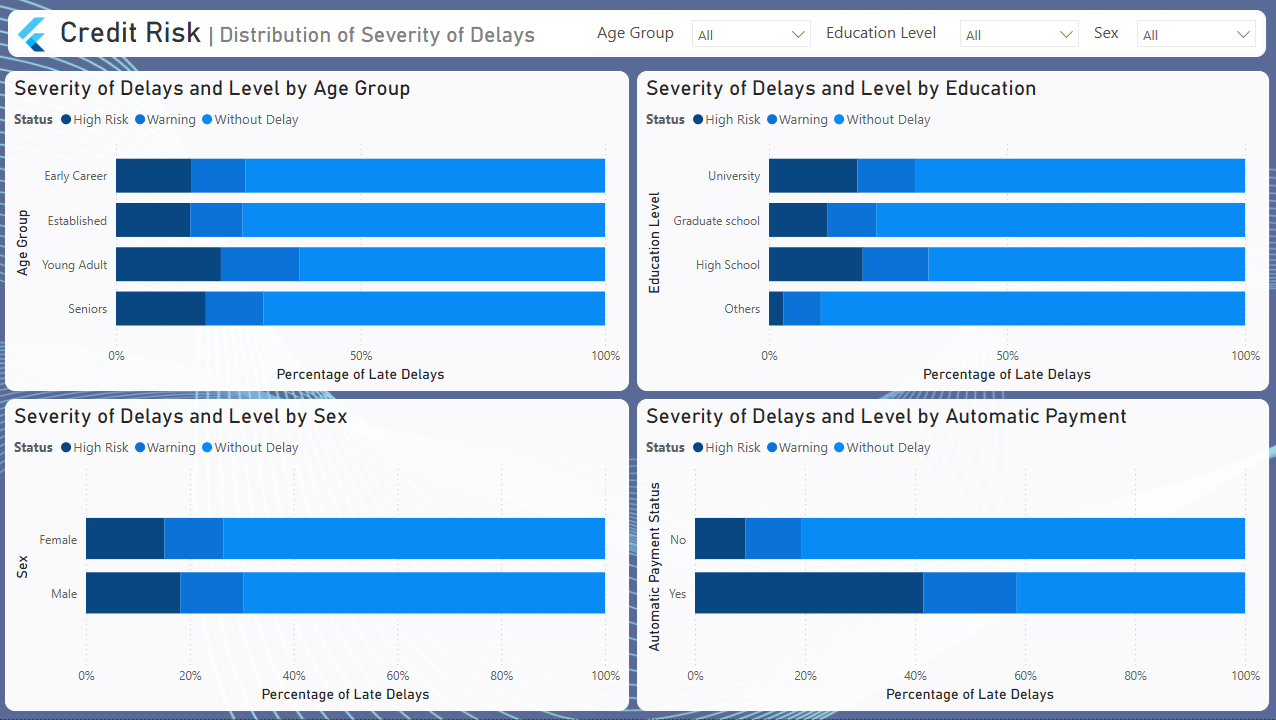

The dashboard page shown, as its layout file describes it:
{"tool":"powerbi","page":{"name":"Page 3","canvas":[1280,720],"ordinal":2},"visuals":[{"type":"hundredPercentStackedBarChart","title":"Severity of Delays and Level by Age Group","fields":{"Category":["Banking.AGE_GROUP"],"Y":["CountNonNull(Banking.MAX_LATE_DELAY)"],"Series":["Banking.MAX_LATE_DELAY_TEXT"]},"box":[8,72,624,320],"z":0},{"type":"hundredPercentStackedBarChart","title":"Severity of Delays and Level by Education","fields":{"Category":["Banking.EDUCATION"],"Y":["CountNonNull(Banking.MAX_LATE_DELAY)"],"Series":["Banking.MAX_LATE_DELAY_TEXT"]},"box":[640,72,632,320],"z":1000},{"type":"hundredPercentStackedBarChart","title":"Severity of Delays and Level by Sex","fields":{"Category":["Banking.SEX"],"Y":["CountNonNull(Banking.MAX_LATE_DELAY)"],"Series":["Banking.MAX_LATE_DELAY_TEXT"]},"box":[8,400,624,312],"z":2000},{"type":"hundredPercentStackedBarChart","title":"Severity of Delays and Level by Automatic Payment","fields":{"Category":["Banking.AUTOMATIC_PAYMENT"],"Y":["CountNonNull(Banking.MAX_LATE_DELAY)"],"Series":["Banking.MAX_LATE_DELAY_TEXT"]},"box":[640,400,632,312],"z":3000},{"type":"shape","box":[10.7,10.7,1258.6,47.7],"z":4000},{"type":"textbox","box":[58.4,10.7,536.9,47.7],"z":5000},{"type":"slicer","fields":{"Values":["Banking.AGE_GROUP"]},"box":[684.7,10.7,139.1,47.7],"z":6000},{"type":"textbox","box":[595.3,16.5,89.5,37],"z":7000},{"type":"textbox","box":[823.8,16.5,129.4,37],"z":8000},{"type":"slicer","fields":{"Values":["Banking.EDUCATION"]},"box":[953.2,10.7,139.1,47.7],"z":9000},{"type":"textbox","box":[1092.3,16.5,37.9,37],"z":10000},{"type":"slicer","fields":{"Values":["Banking.SEX"]},"box":[1130.2,10.7,139.1,47.7],"z":11000},{"type":"image","box":[10.7,10.7,47.7,48.6],"z":11001}]}

Visuals, with their boxes in screenshot pixels (x1, y1, x2, y2), scaled from the page's 1280x720 canvas onto the 1276x720 screenshot:
"Severity of Delays and Level by Age Group" hundredPercentStackedBarChart: (x1=8, y1=72, x2=630, y2=392)
"Severity of Delays and Level by Education" hundredPercentStackedBarChart: (x1=638, y1=72, x2=1268, y2=392)
"Severity of Delays and Level by Sex" hundredPercentStackedBarChart: (x1=8, y1=400, x2=630, y2=712)
"Severity of Delays and Level by Automatic Payment" hundredPercentStackedBarChart: (x1=638, y1=400, x2=1268, y2=712)
shape: (x1=11, y1=11, x2=1265, y2=58)
textbox: (x1=58, y1=11, x2=593, y2=58)
slicer - Banking.AGE_GROUP: (x1=683, y1=11, x2=821, y2=58)
textbox: (x1=593, y1=16, x2=683, y2=54)
textbox: (x1=821, y1=16, x2=950, y2=54)
slicer - Banking.EDUCATION: (x1=950, y1=11, x2=1089, y2=58)
textbox: (x1=1089, y1=16, x2=1127, y2=54)
slicer - Banking.SEX: (x1=1127, y1=11, x2=1265, y2=58)
image: (x1=11, y1=11, x2=58, y2=59)
